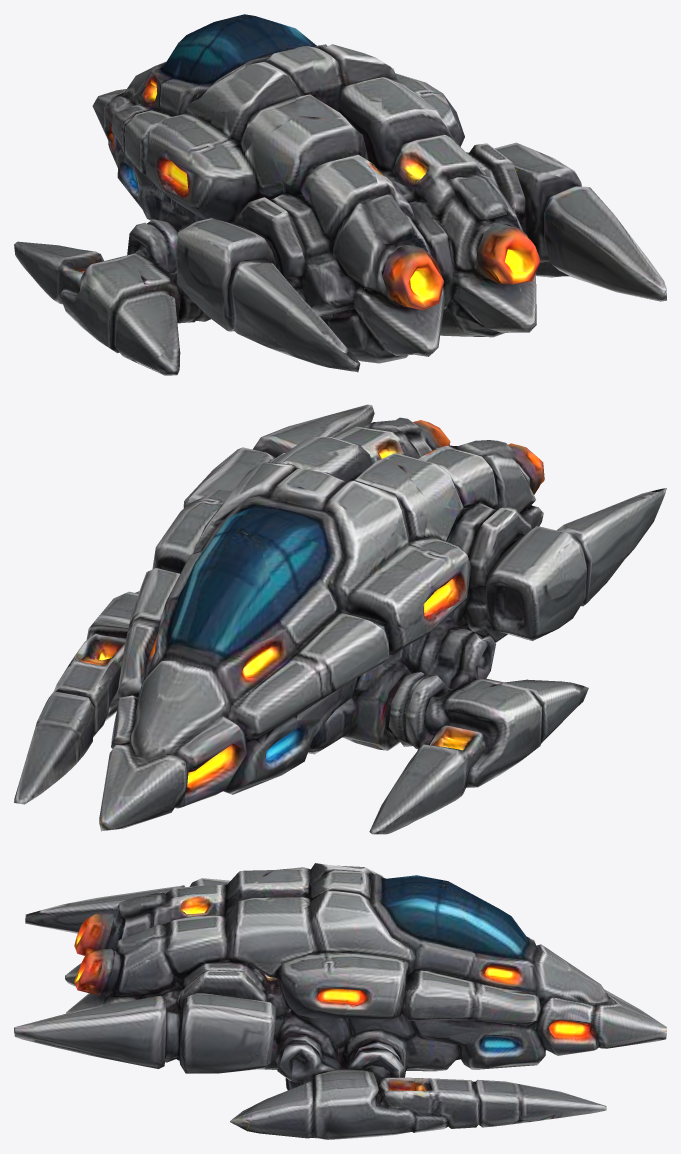
Rendered from viper.glb.
3 renders of one model, top to bottom at view 1: azimuth 30°, elevation 25°; view 2: azimuth 150°, elevation 25°; view 3: azimuth 270°, elevation 25°, orthographic. The views are drawn at different scales.
Size of the model in its own units: 1.11 by 0.5857 by 1.88.
1 material, 1 textured.
